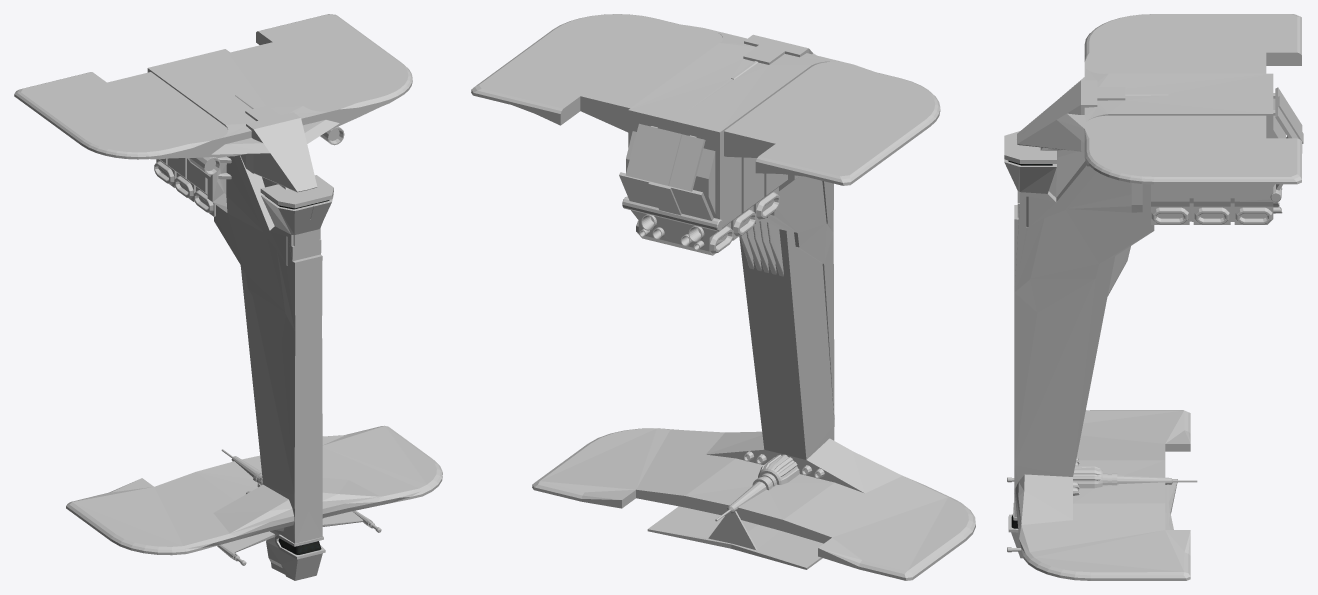
The model's file is merchant_cruiser_light_l0.fbx.
3 views of the same model, side by side, from view 1: azimuth 30°, elevation 25°; view 2: azimuth 150°, elevation 25°; view 3: azimuth 270°, elevation 25° (orthographic). The views are drawn at different scales.
Parts seen in each view (by area): view 1: mesh_node; view 2: mesh_node; view 3: mesh_node.
Part boxes in pixels (x1,y1,x2,y2): mesh_node: [14, 14, 442, 580]; mesh_node: [471, 14, 975, 580]; mesh_node: [1004, 14, 1303, 580].
Size of the model in its own units: 35.08 by 45.01 by 26.55.
